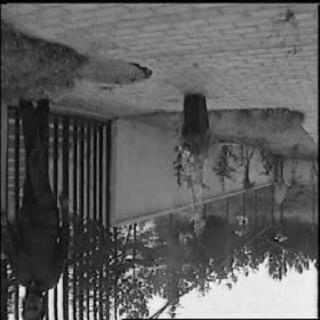Fire: (176, 158, 209, 250)
